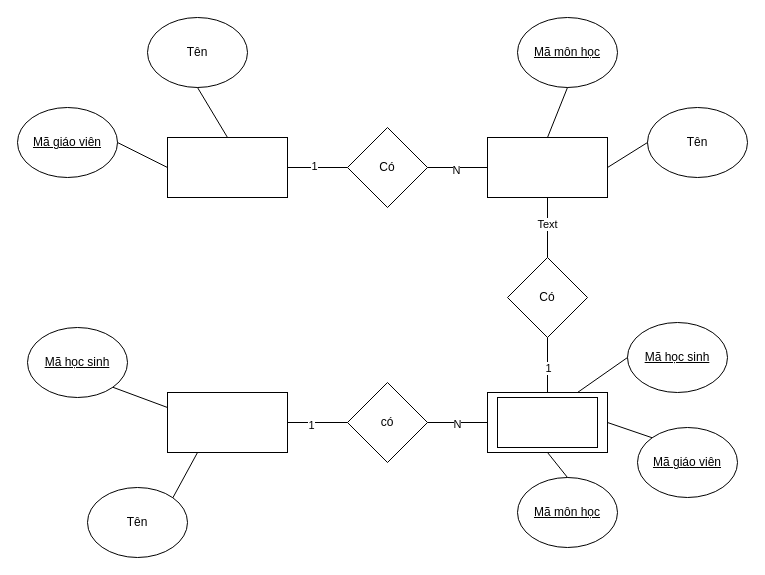
This 765x575 diagram has some shape labels left out. The shapes that lost their labels are listed below. From the top down, each one's centre as x and y in pixels, then its label:
At [227,167]: "Giáo viên".
At [547,167]: "Môn học".
At [227,422]: "Học sinh".
At [547,422]: "Đăng kí".
